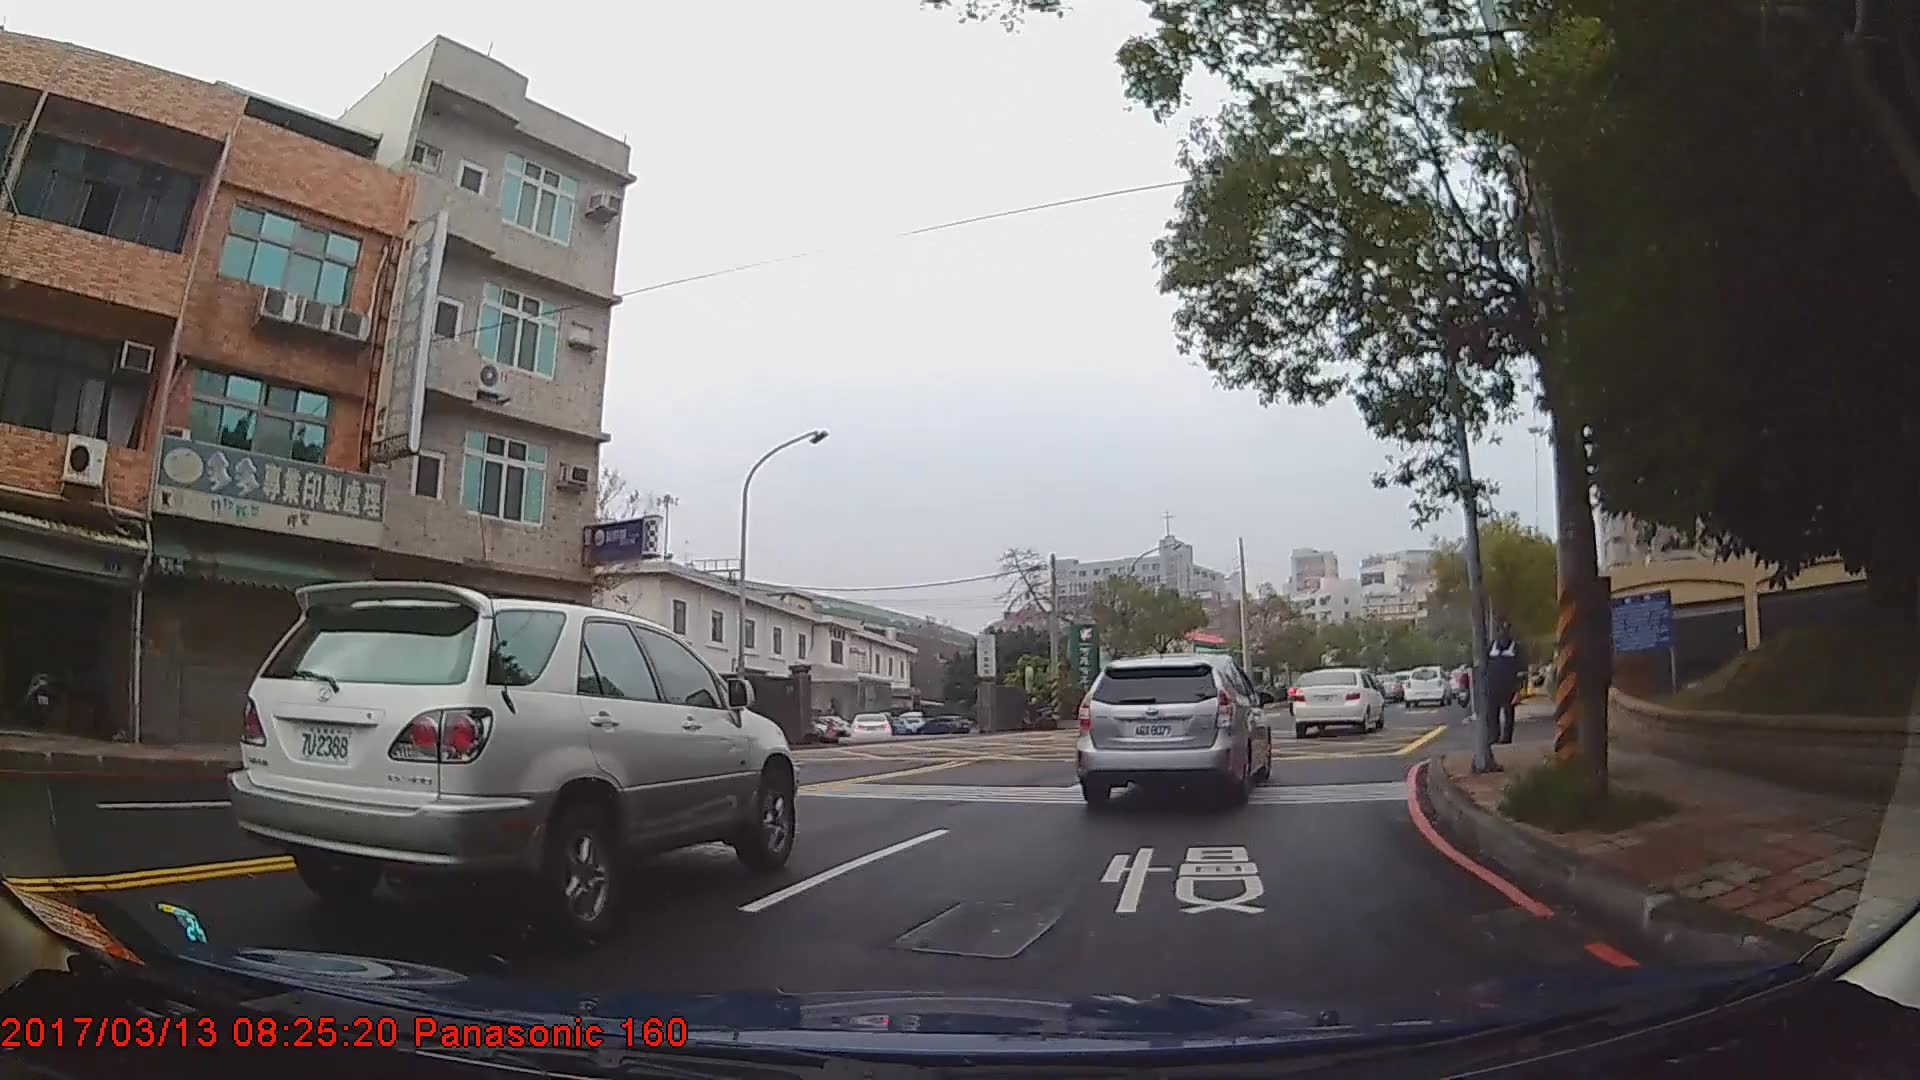pedestrian: (1485, 621, 1527, 746)
vehicle: (225, 581, 798, 941), (1071, 652, 1270, 804), (1288, 666, 1384, 735), (1400, 665, 1451, 709), (847, 712, 893, 742), (912, 714, 971, 735)
